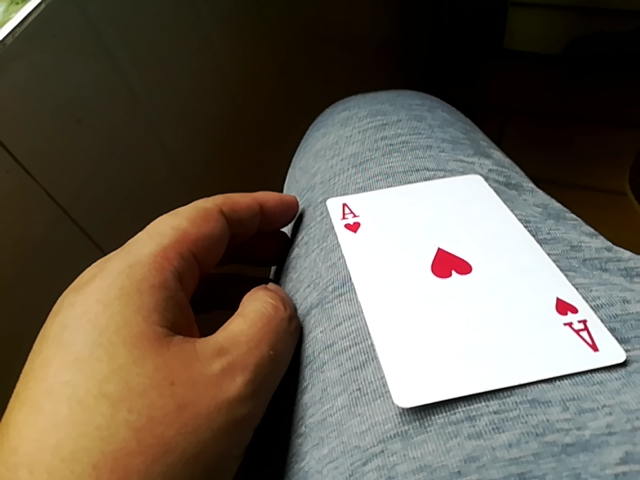hx a: (322, 170, 626, 413)
